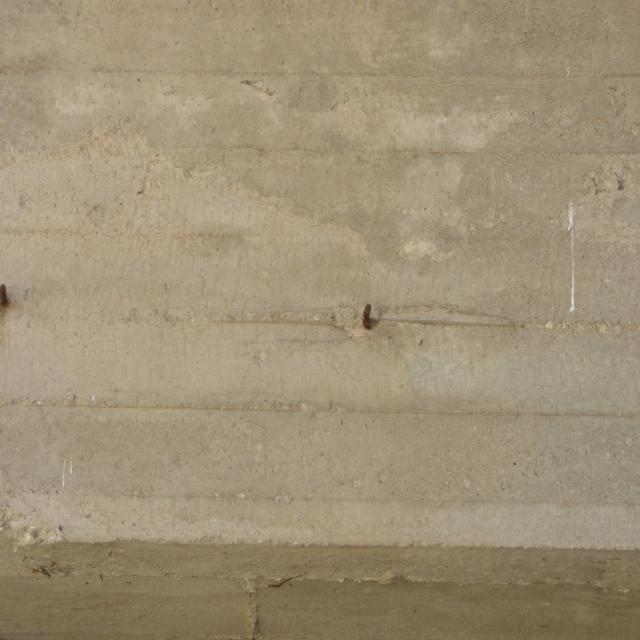corrosion: (360, 303, 375, 332), (0, 282, 12, 310)
